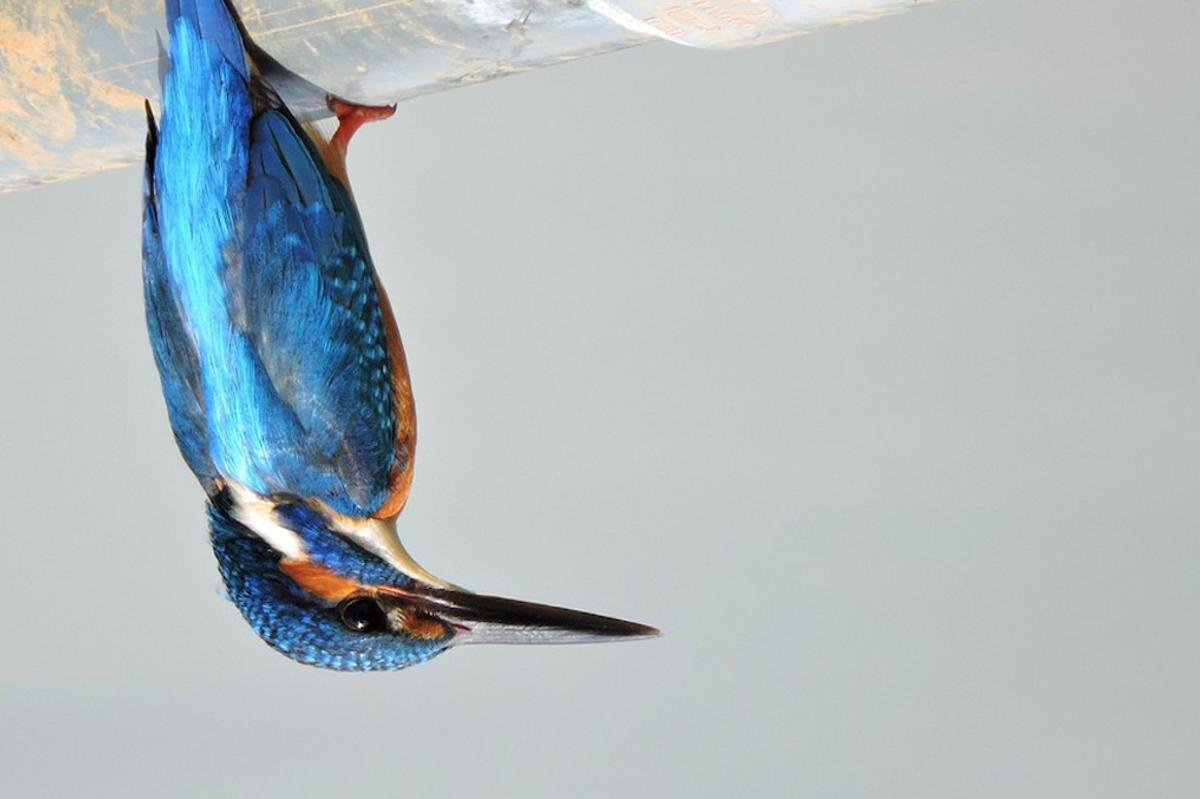kingfisher: (123, 1, 659, 688)
